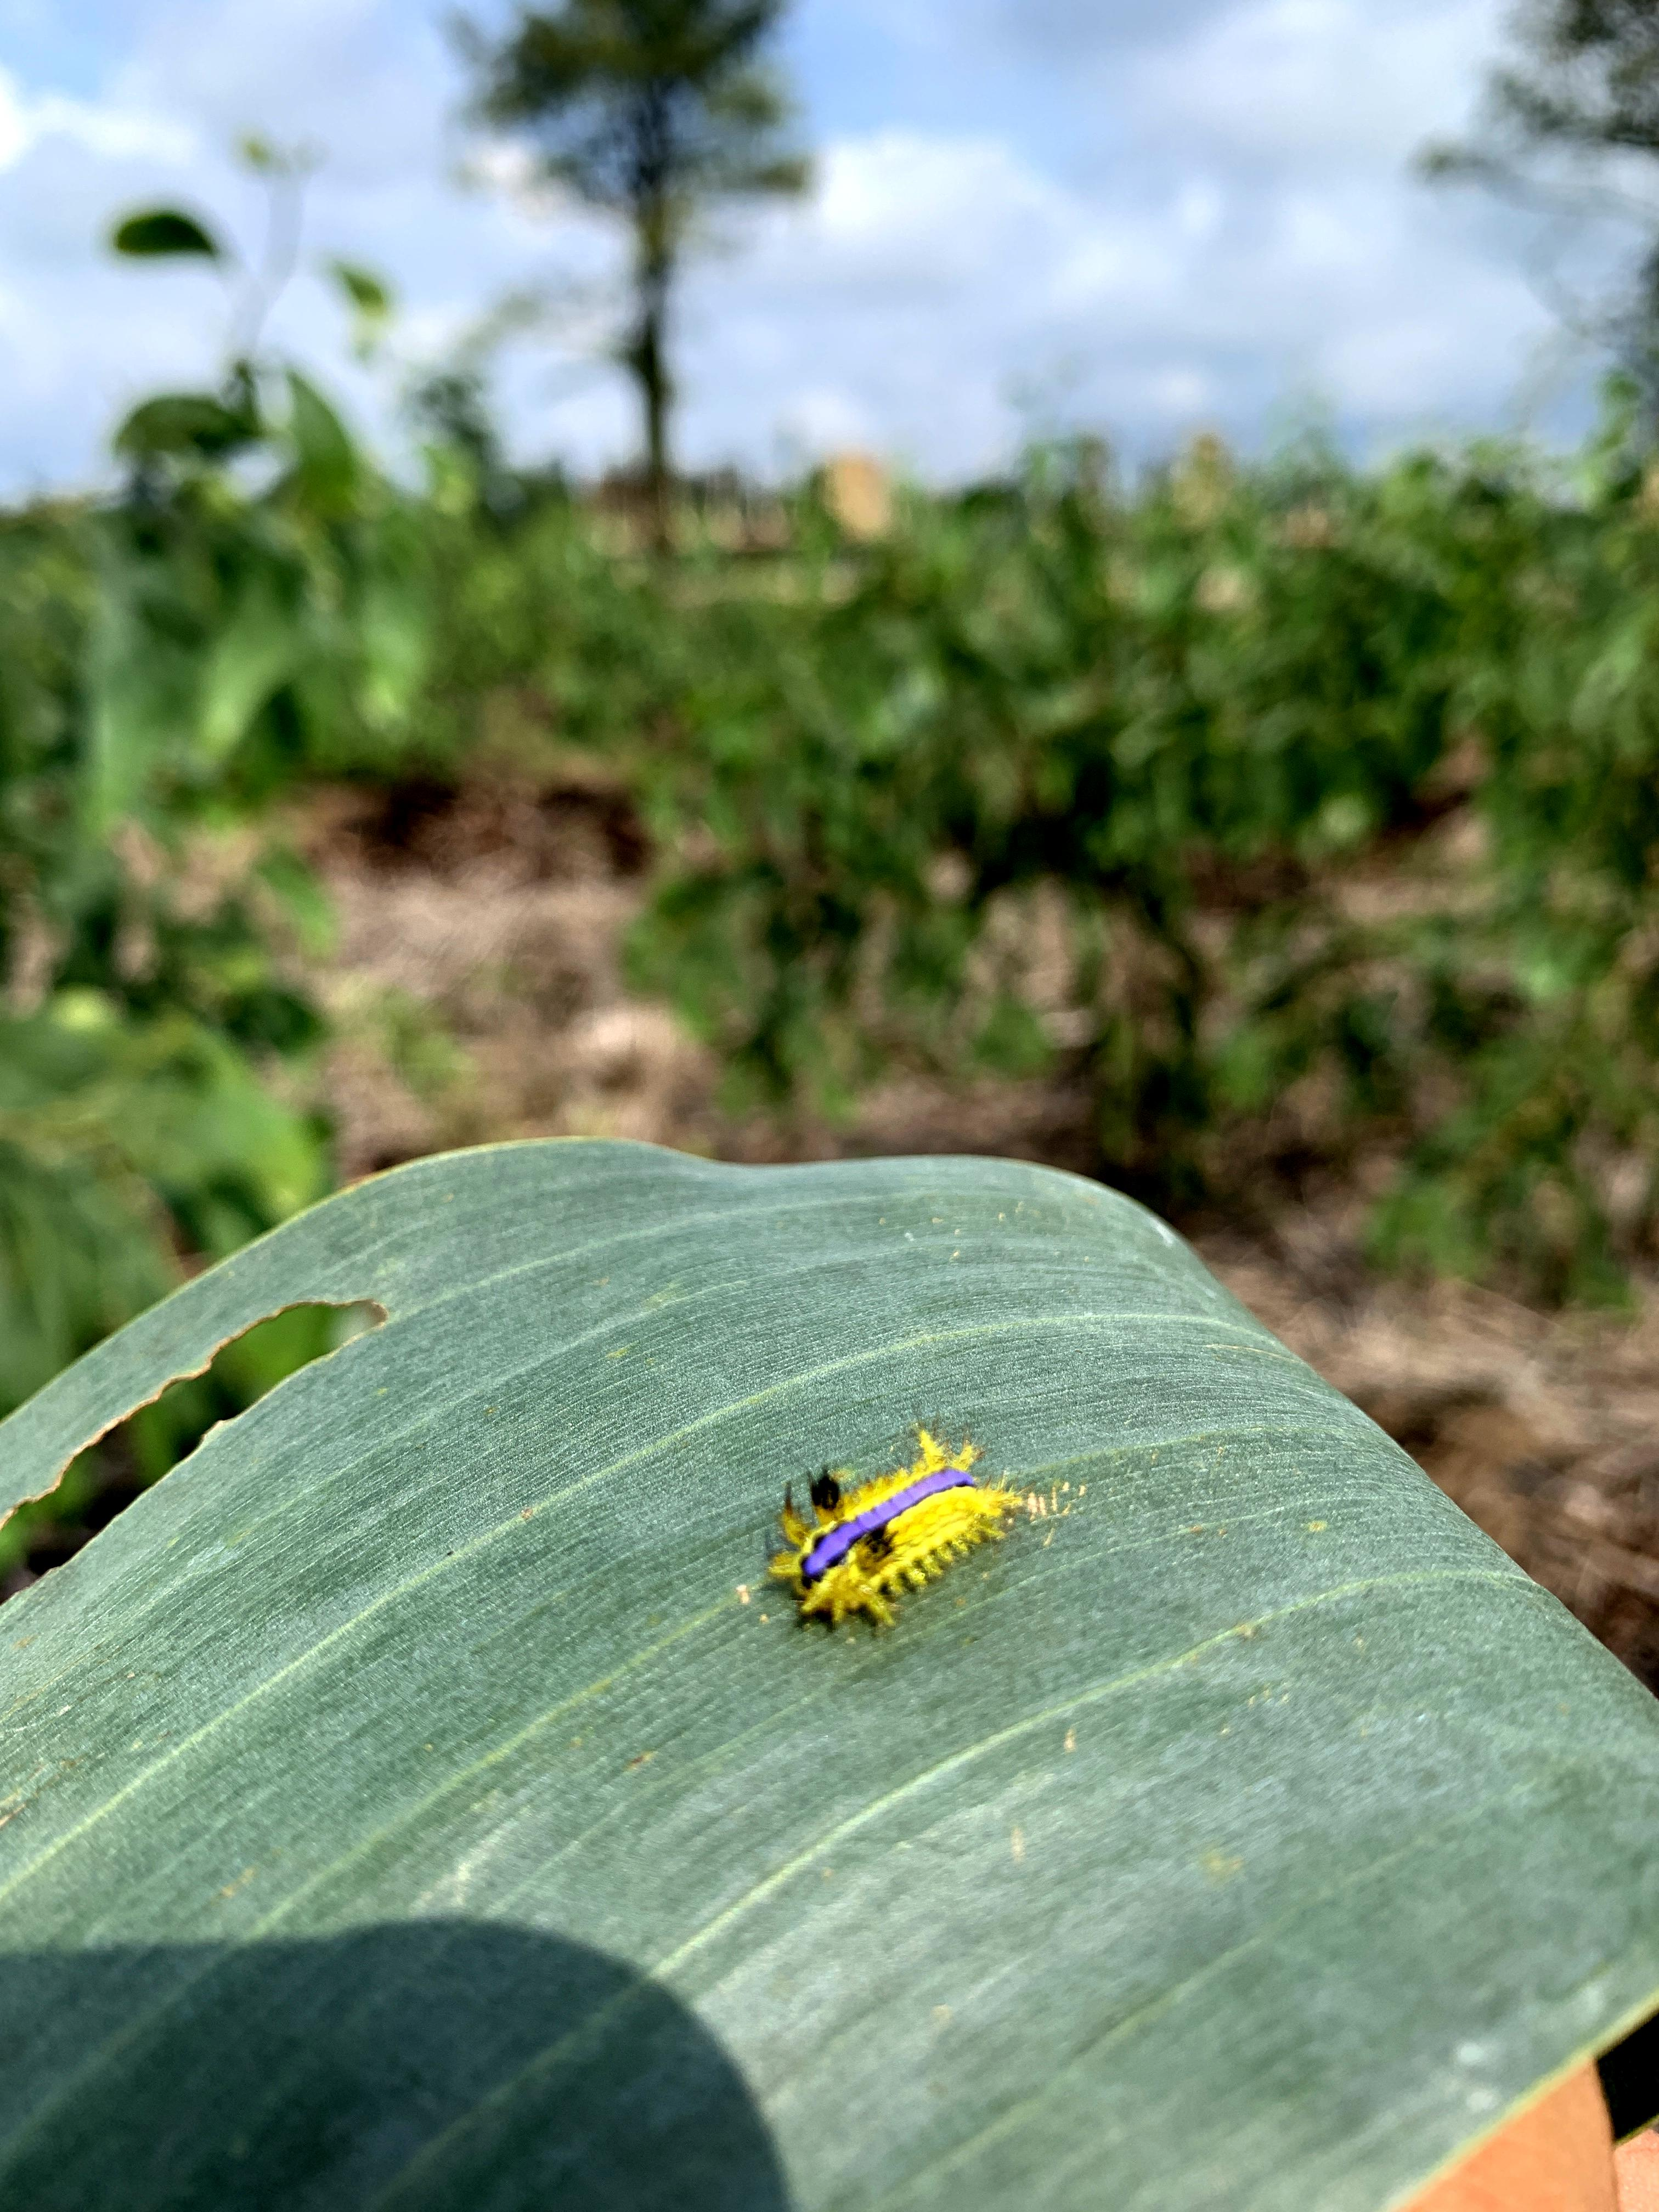Caterpillar: (758, 1416, 1033, 1660)
